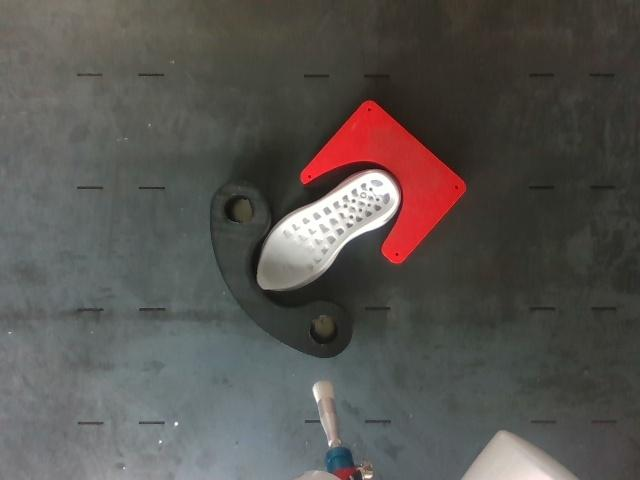shoes: (258, 173, 397, 289)
